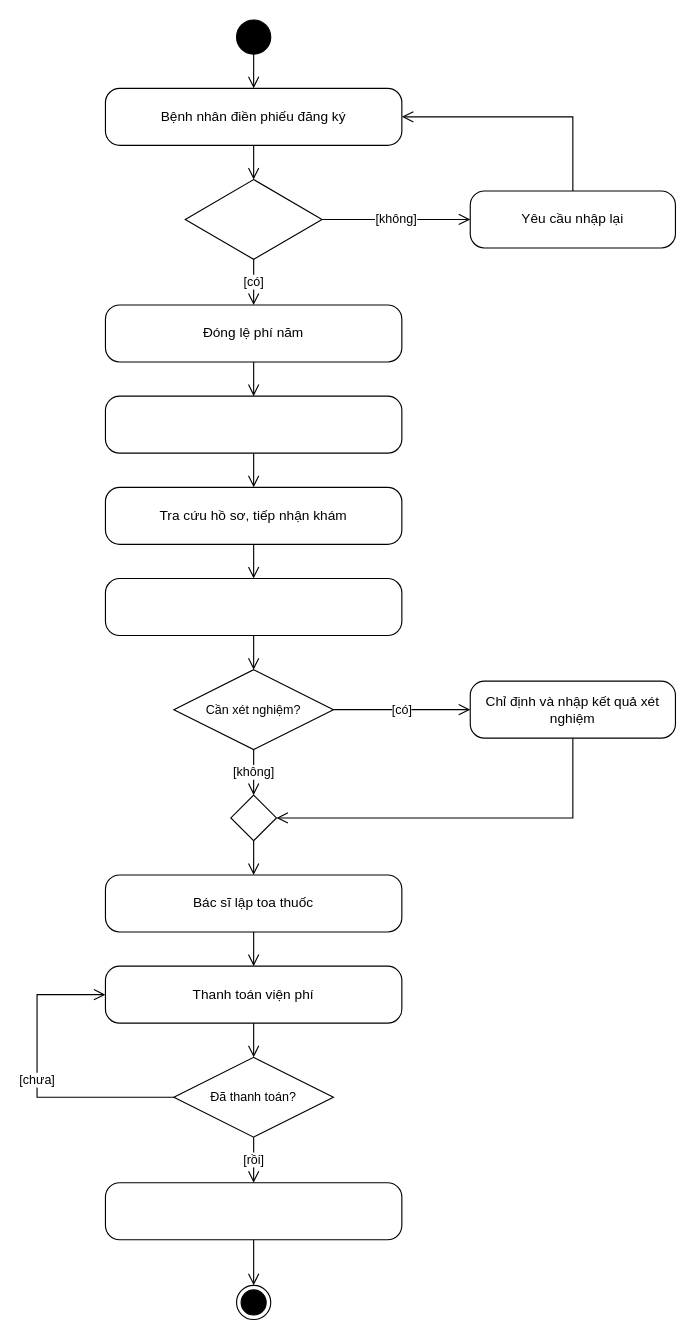
This 695x1340 diagram has some shape labels left out. Here are the shapes that lost their labels. From the top down, the centre of each, then its label:
[253,218]: Hợp lệ?
[253,424]: Cấp hồ sơ bệnh án
[253,606]: Bác sĩ khám bệnh, ghi phiếu khám
[253,1211]: Nhận toa, hoàn tất đợt điều trị
